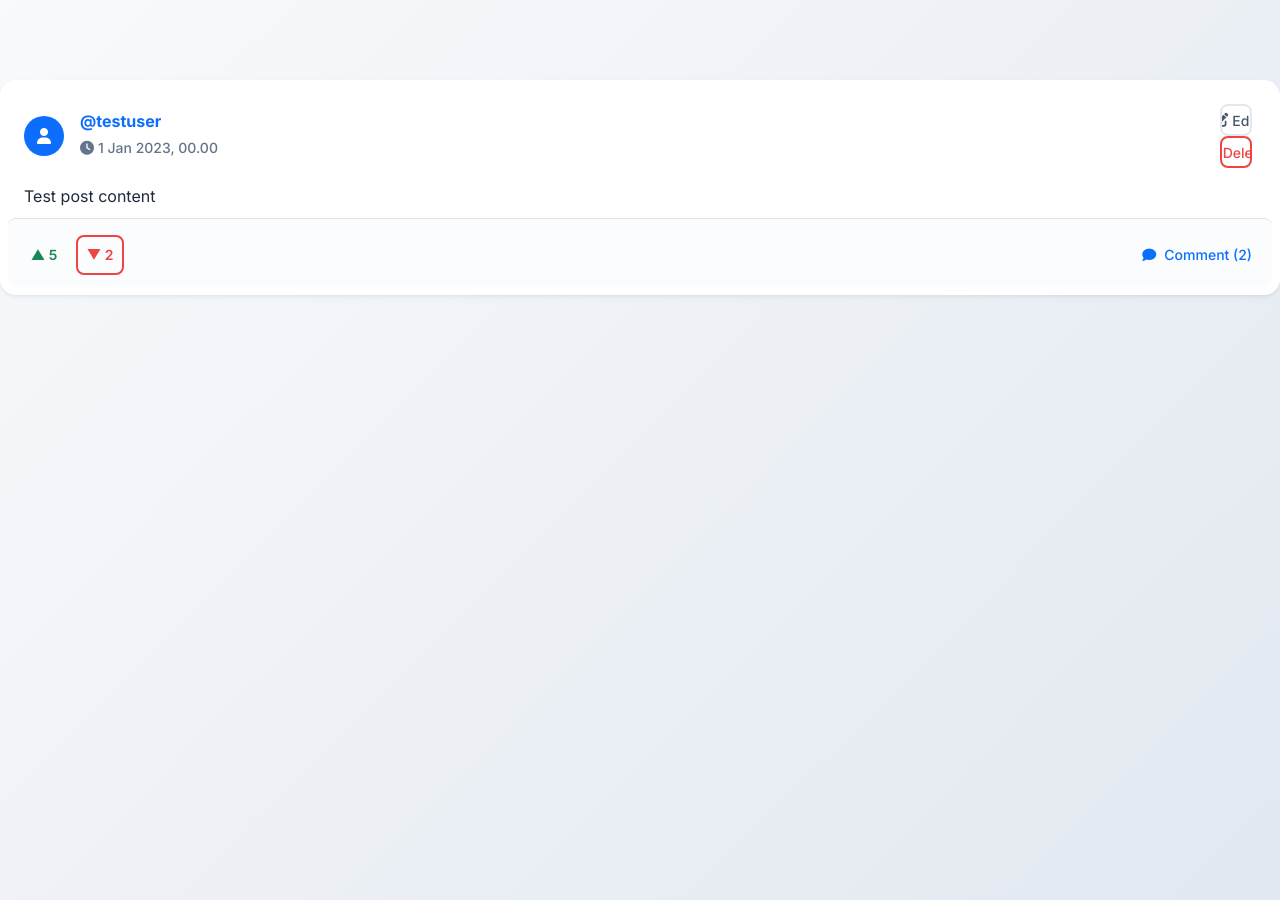
PostItem Component › renders nested comments correctly
Show comments
Click the button "Comment (2)". click: (1197, 255)
box: top-left (1134, 240), bottom-right (1260, 269)
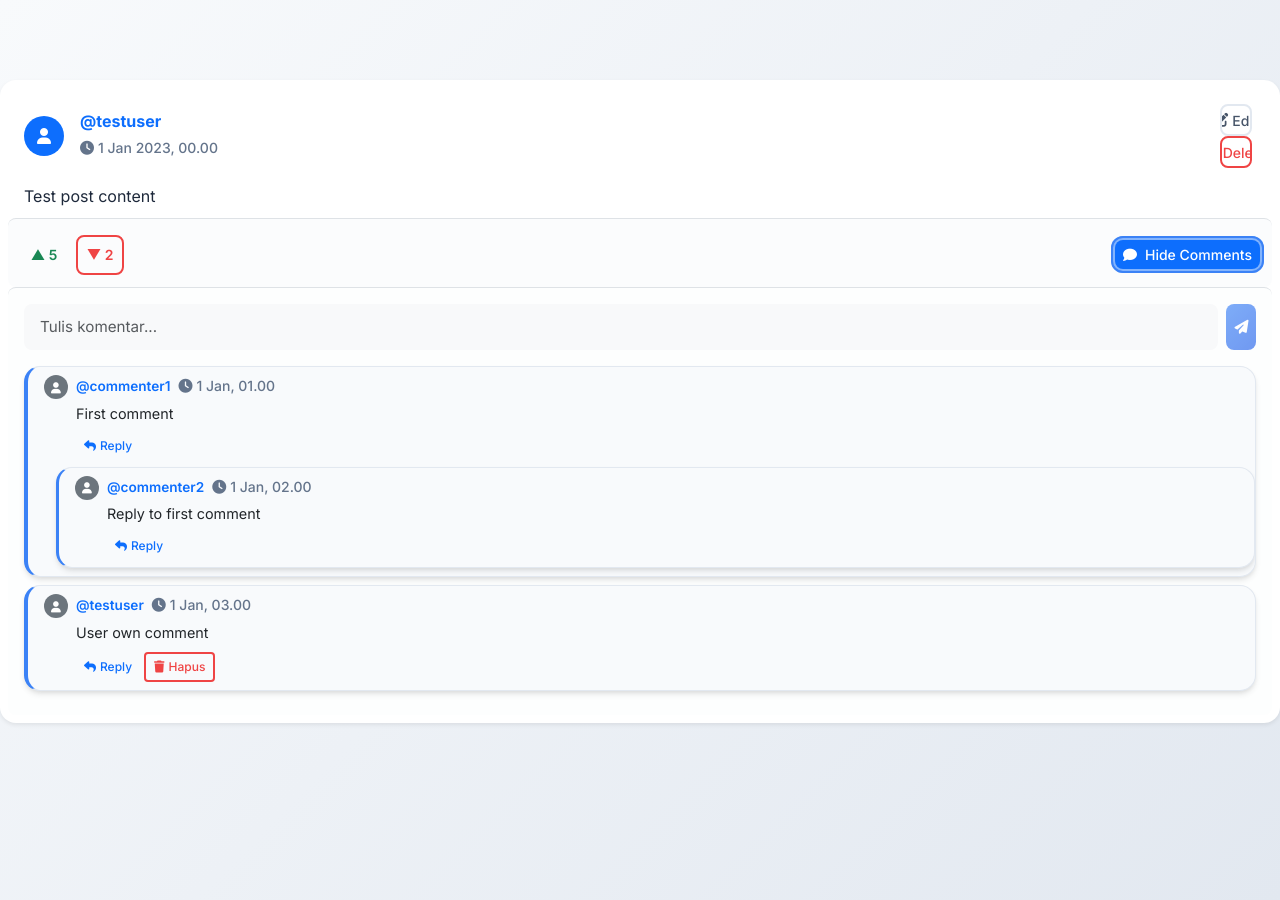
Now the text "First comment" is shown, box top-left (76, 405), bottom-right (173, 422)
Now the text "Reply to first comment" is shown, box top-left (107, 505), bottom-right (260, 522)
